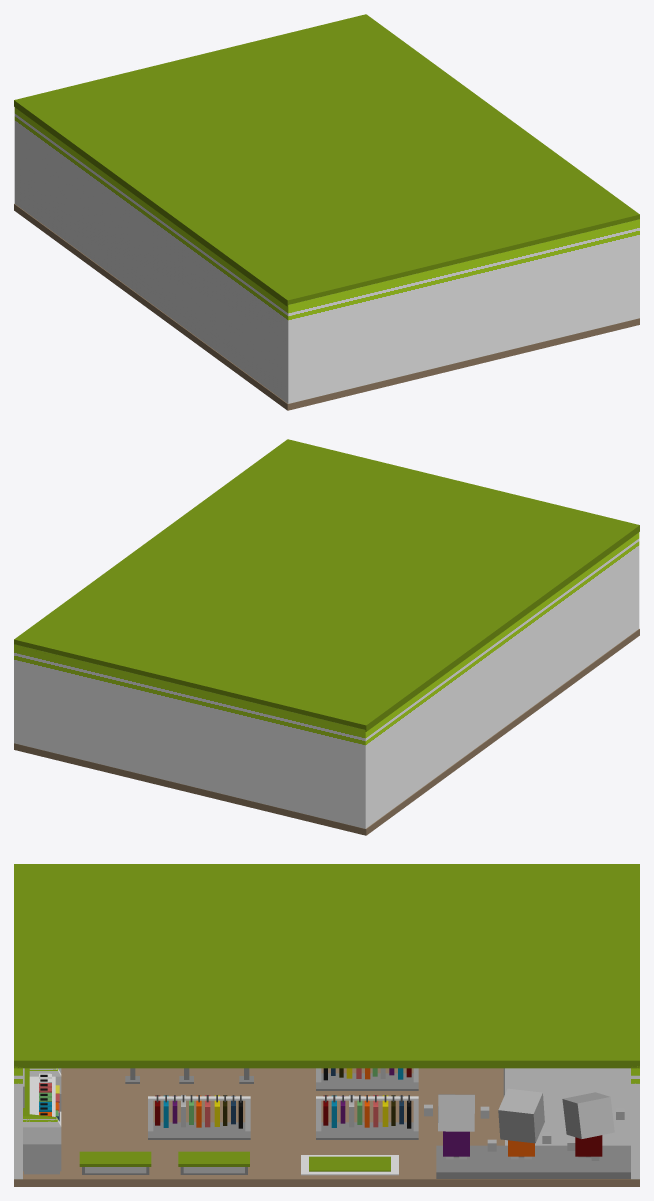
The model's file is One Tag.fbx.
3 views of the same model, one above another, from view 1: azimuth 30°, elevation 25°; view 2: azimuth 150°, elevation 25°; view 3: azimuth 270°, elevation 25° (orthographic). The views are drawn at different scales.
Visible parts, largest first — view 1: Clothing_Store_Ceiling, Clothing_Store_Wall, Clothing_Store; view 2: Clothing_Store_Ceiling, Clothing_Store_Wall, Clothing_Store; view 3: Clothing_Store_Ceiling, Clothing_Store, Head (×3), Mannequin_Stand, Changing_Rooms, Shoe_Display1, Clothes_Stand2, Clothes_Stand3, Clothing_Store_Wall, Clothes_Stand1, Mat_Part, Clothes_Bench5 (+5 smaller).
Part boxes in pixels (x1=…): Clothing_Store_Ceiling: x1=14, y1=14, x2=639, y2=306; Clothing_Store_Wall: x1=14, y1=107, x2=639, y2=403; Clothing_Store: x1=14, y1=204, x2=639, y2=410; Clothing_Store_Ceiling: x1=14, y1=439, x2=639, y2=731; Clothing_Store_Wall: x1=14, y1=532, x2=639, y2=828; Clothing_Store: x1=14, y1=629, x2=639, y2=835; Clothing_Store_Ceiling: x1=14, y1=864, x2=639, y2=1068; Clothing_Store: x1=14, y1=1068, x2=639, y2=1186; Head (×3): x1=438, y1=1088, x2=614, y2=1143; Mannequin_Stand: x1=436, y1=1145, x2=630, y2=1178; Changing_Rooms: x1=505, y1=1068, x2=630, y2=1145; Shoe_Display1: x1=23, y1=1068, x2=61, y2=1174; Clothes_Stand2: x1=316, y1=1096, x2=418, y2=1139; Clothes_Stand3: x1=148, y1=1096, x2=250, y2=1139; Clothing_Store_Wall: x1=14, y1=1066, x2=639, y2=1179; Clothes_Stand1: x1=316, y1=1068, x2=418, y2=1090; Mat_Part: x1=309, y1=1156, x2=390, y2=1171; Clothes_Bench5: x1=79, y1=1151, x2=151, y2=1166.
Bounding box in the file's own units: 88.62 × 26.53 × 119.
Materials: 21 (1 with a texture image).
